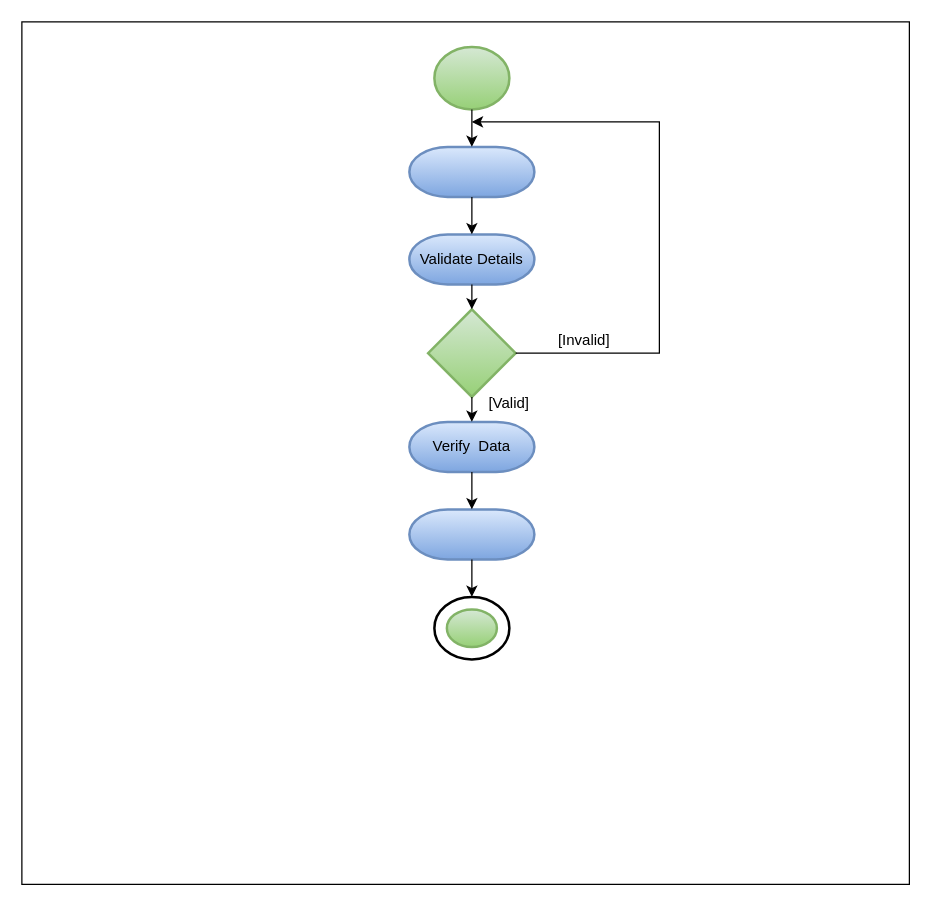
Some shapes in this 931 by 906 pixel diagram are drawn without their labels. Each missing label, with the centre of its shape:
Enter Details: point 471,171
Redirect Hone Page: point 471,534
